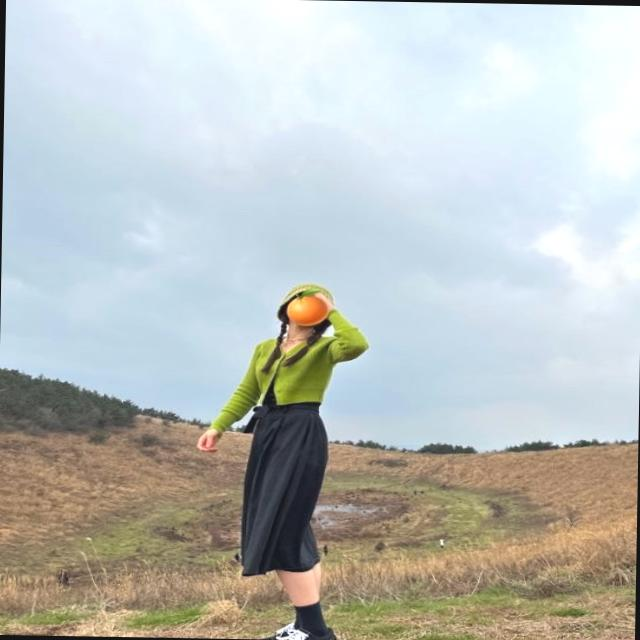cardigan: (214, 304, 368, 432)
skirt: (243, 398, 330, 576)
